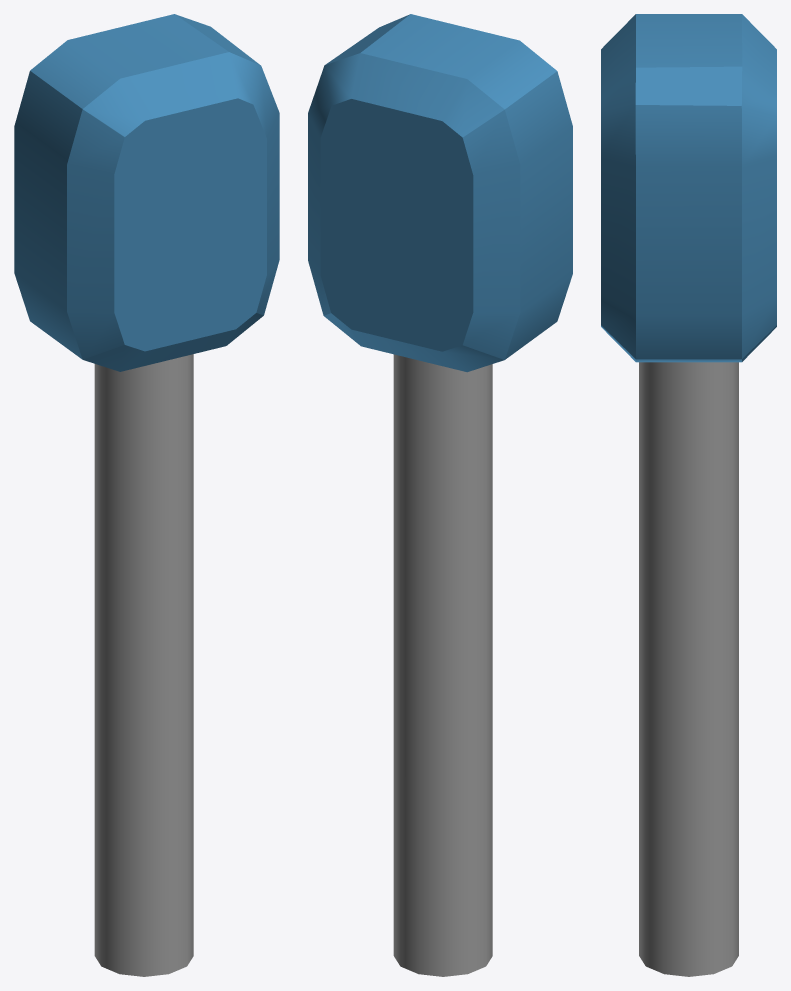
File: lever_bar.fbx
3 renders of one model, left to right at view 1: azimuth 30°, elevation 25°; view 2: azimuth 150°, elevation 25°; view 3: azimuth 270°, elevation 25°, orthographic.
Visible parts, largest first — view 1: lever_bar; view 2: lever_bar; view 3: lever_bar.
Part boxes in pixels (x1,y1,x2,y2): lever_bar: (14,14,279,976); lever_bar: (308,14,572,976); lever_bar: (601,14,776,976).
Size of the model in its own units: 0.1048 by 0.4287 by 0.0745.
